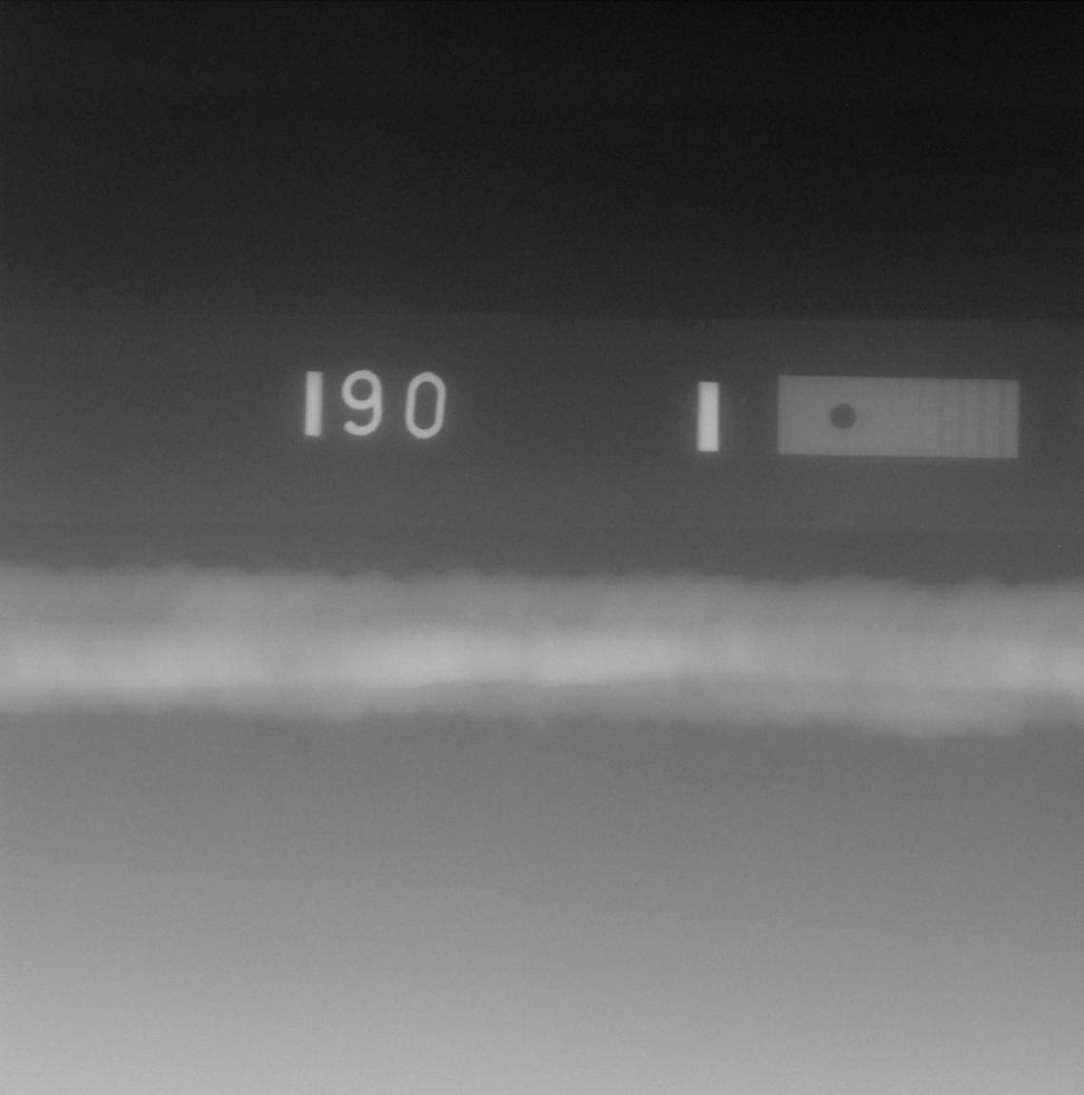Reference Standard 1: (778, 375, 1019, 460)
